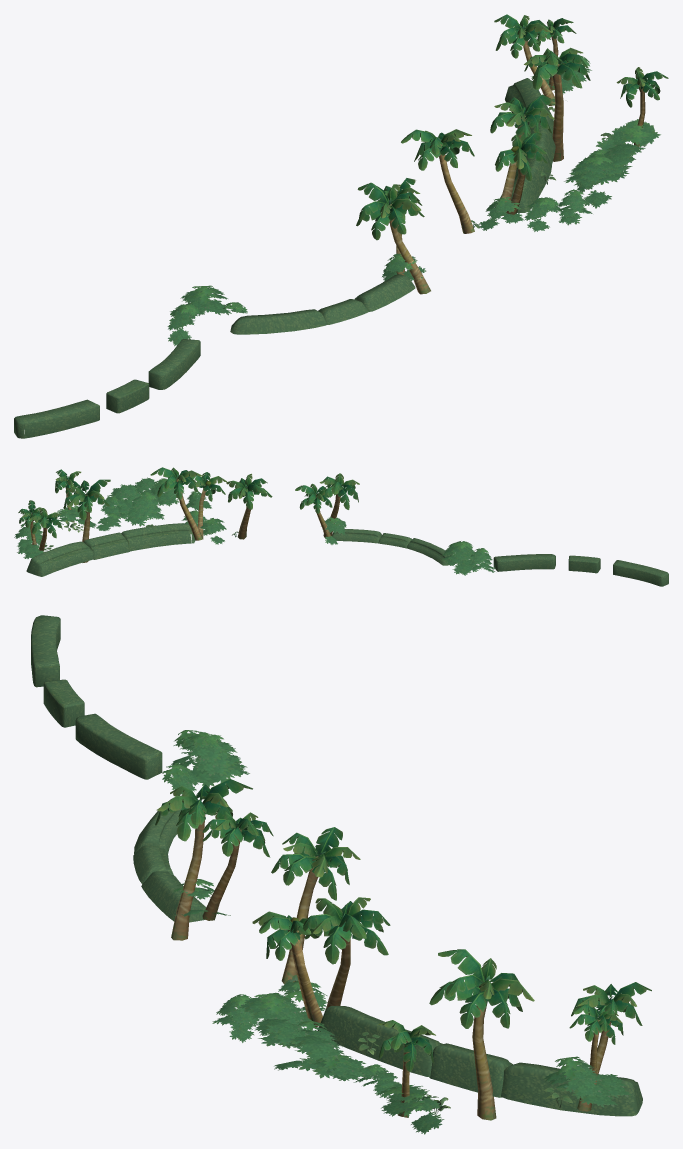
The model's file is pref_sm_4v4pointbake_CSD_L01_lv1.fbx.
3 renders of one model, top to bottom at view 1: azimuth 30°, elevation 25°; view 2: azimuth 150°, elevation 25°; view 3: azimuth 270°, elevation 25°, orthographic. The views are drawn at different scales.
Parts seen in each view (by area): view 1: sm_4v4pointbake_CSD_L01_a_lv1, sm_4v4pointbake_CSD_L01_b_lv1; view 2: sm_4v4pointbake_CSD_L01_a_lv1, sm_4v4pointbake_CSD_L01_b_lv1; view 3: sm_4v4pointbake_CSD_L01_a_lv1, sm_4v4pointbake_CSD_L01_b_lv1.
Part boxes in pixels (x1,y1,x2,y2): sm_4v4pointbake_CSD_L01_a_lv1: (167,14,668,346); sm_4v4pointbake_CSD_L01_b_lv1: (14,78,555,438); sm_4v4pointbake_CSD_L01_a_lv1: (14,467,495,575); sm_4v4pointbake_CSD_L01_b_lv1: (26,523,668,586); sm_4v4pointbake_CSD_L01_a_lv1: (155,730,651,1134); sm_4v4pointbake_CSD_L01_b_lv1: (31,615,642,1116).
Bounding box in the file's own units: 59.53 × 8.81 × 30.52.
